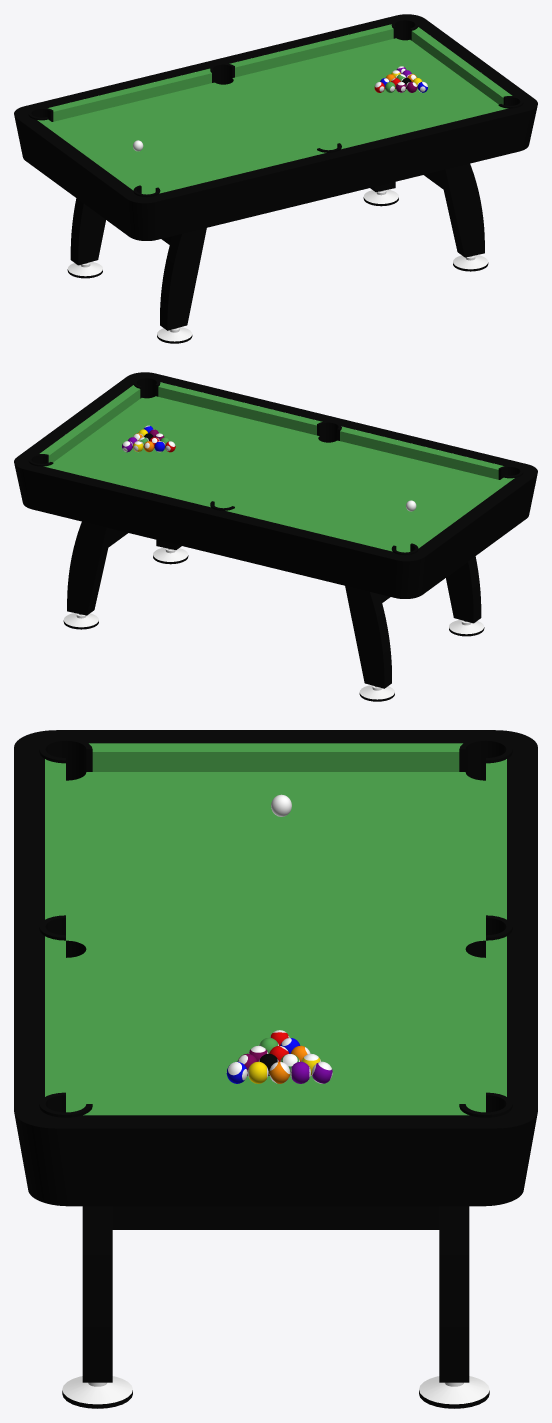
File: pool-table-7ft.glb
The picture shows the model from 3 angles, top to bottom: view 1: azimuth 30°, elevation 25°; view 2: azimuth 150°, elevation 25°; view 3: azimuth 270°, elevation 25°; orthographic projection. The views are drawn at different scales.
Parts seen in each view (by area): view 1: Mesh45 Group1 Model, Mesh3 Group3 Group1 Model, Mesh7 Group5 Group1 Model, Mesh1 Group2 Group1 Model, Mesh18 patte2 Group1 Model, Mesh36 patte4 Group1 Model, Mesh9 patte1 Group1 Model, Mesh27 patte3 Group1 Model; view 2: Mesh45 Group1 Model, Mesh1 Group2 Group1 Model, Mesh5 Group4 Group1 Model, Mesh3 Group3 Group1 Model, Mesh36 patte4 Group1 Model, Mesh18 patte2 Group1 Model, Mesh27 patte3 Group1 Model, Mesh9 patte1 Group1 Model; view 3: Mesh45 Group1 Model, Mesh46 Group1 Model, Mesh5 Group4 Group1 Model, Mesh7 Group5 Group1 Model, Mesh18 patte2 Group1 Model, Mesh36 patte4 Group1 Model.
Boxes of the visible parts, <box> form: Mesh45 Group1 Model: <box>14,14,537,240</box>; Mesh3 Group3 Group1 Model: <box>160,228,206,330</box>; Mesh7 Group5 Group1 Model: <box>439,163,484,257</box>; Mesh1 Group2 Group1 Model: <box>70,198,105,265</box>; Mesh18 patte2 Group1 Model: <box>453,255,488,271</box>; Mesh36 patte4 Group1 Model: <box>363,189,398,206</box>; Mesh9 patte1 Group1 Model: <box>157,327,192,343</box>; Mesh27 patte3 Group1 Model: <box>67,262,102,278</box>; Mesh45 Group1 Model: <box>14,372,537,598</box>; Mesh1 Group2 Group1 Model: <box>345,586,391,688</box>; Mesh5 Group4 Group1 Model: <box>67,521,112,615</box>; Mesh3 Group3 Group1 Model: <box>446,556,481,623</box>; Mesh36 patte4 Group1 Model: <box>63,613,98,629</box>; Mesh18 patte2 Group1 Model: <box>153,547,188,564</box>; Mesh27 patte3 Group1 Model: <box>359,685,394,701</box>; Mesh9 patte1 Group1 Model: <box>449,620,484,636</box>; Mesh45 Group1 Model: <box>14,730,537,1206</box>; Mesh46 Group1 Model: <box>112,1206,439,1229</box>; Mesh5 Group4 Group1 Model: <box>439,1206,469,1382</box>; Mesh7 Group5 Group1 Model: <box>82,1206,112,1382</box>; Mesh18 patte2 Group1 Model: <box>62,1376,132,1408</box>; Mesh36 patte4 Group1 Model: <box>419,1376,489,1408</box>.
Size of the model in its own units: 2.13 by 0.8001 by 1.18.
